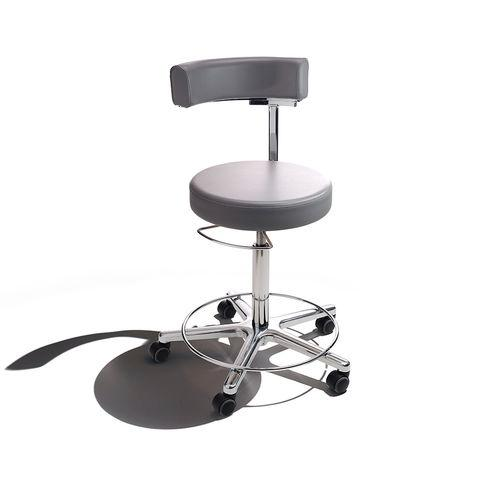chair: (152, 53, 351, 424)
